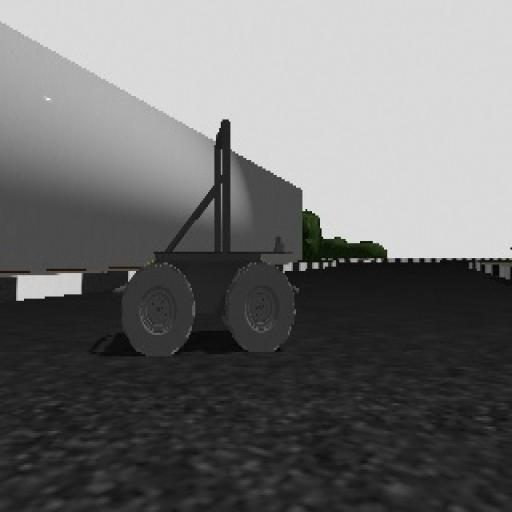huskya200: (78, 111, 310, 401)
